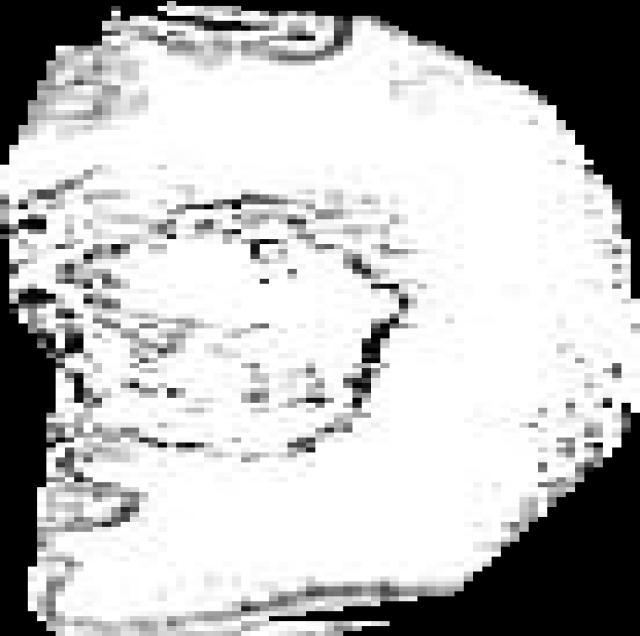tumor_moderate_chance: (0, 1, 640, 636)
